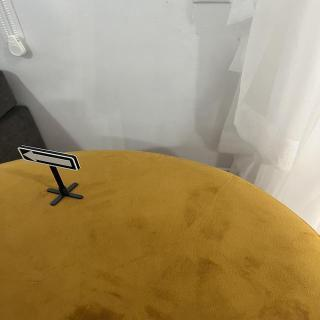sign_oneway_left: (18, 145, 83, 174)
